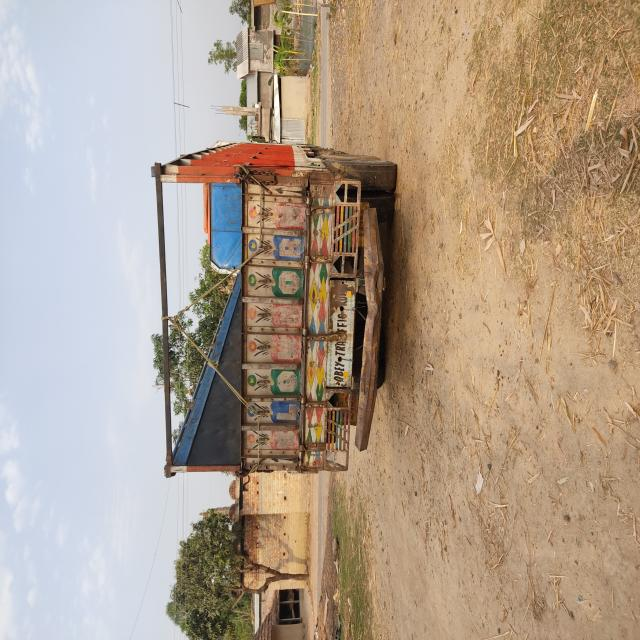Truck: (120, 203, 378, 530)
